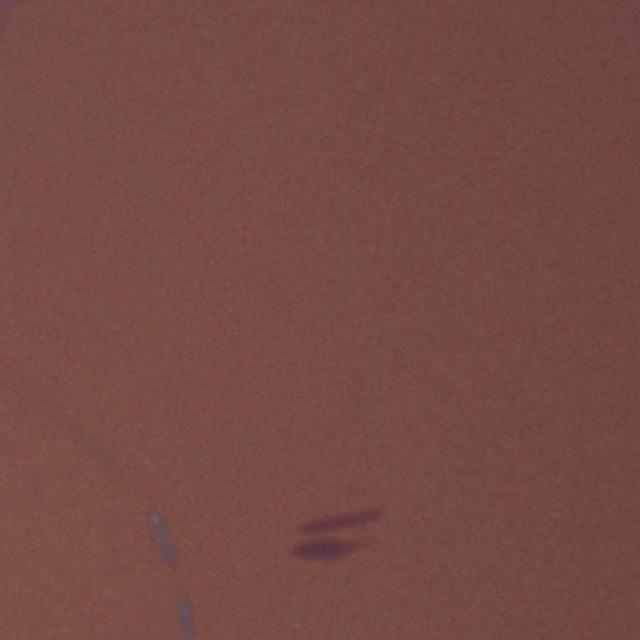monolayer-eWW4: (290, 538, 380, 564), (292, 507, 385, 532)
